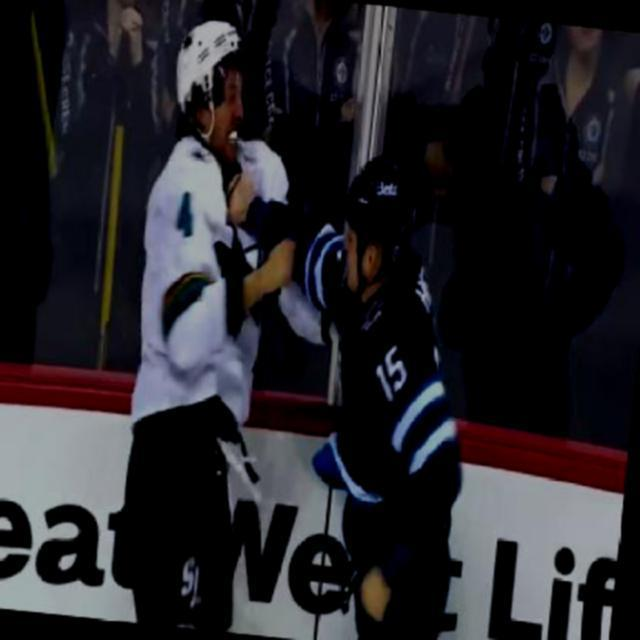fight: (106, 6, 512, 639)
